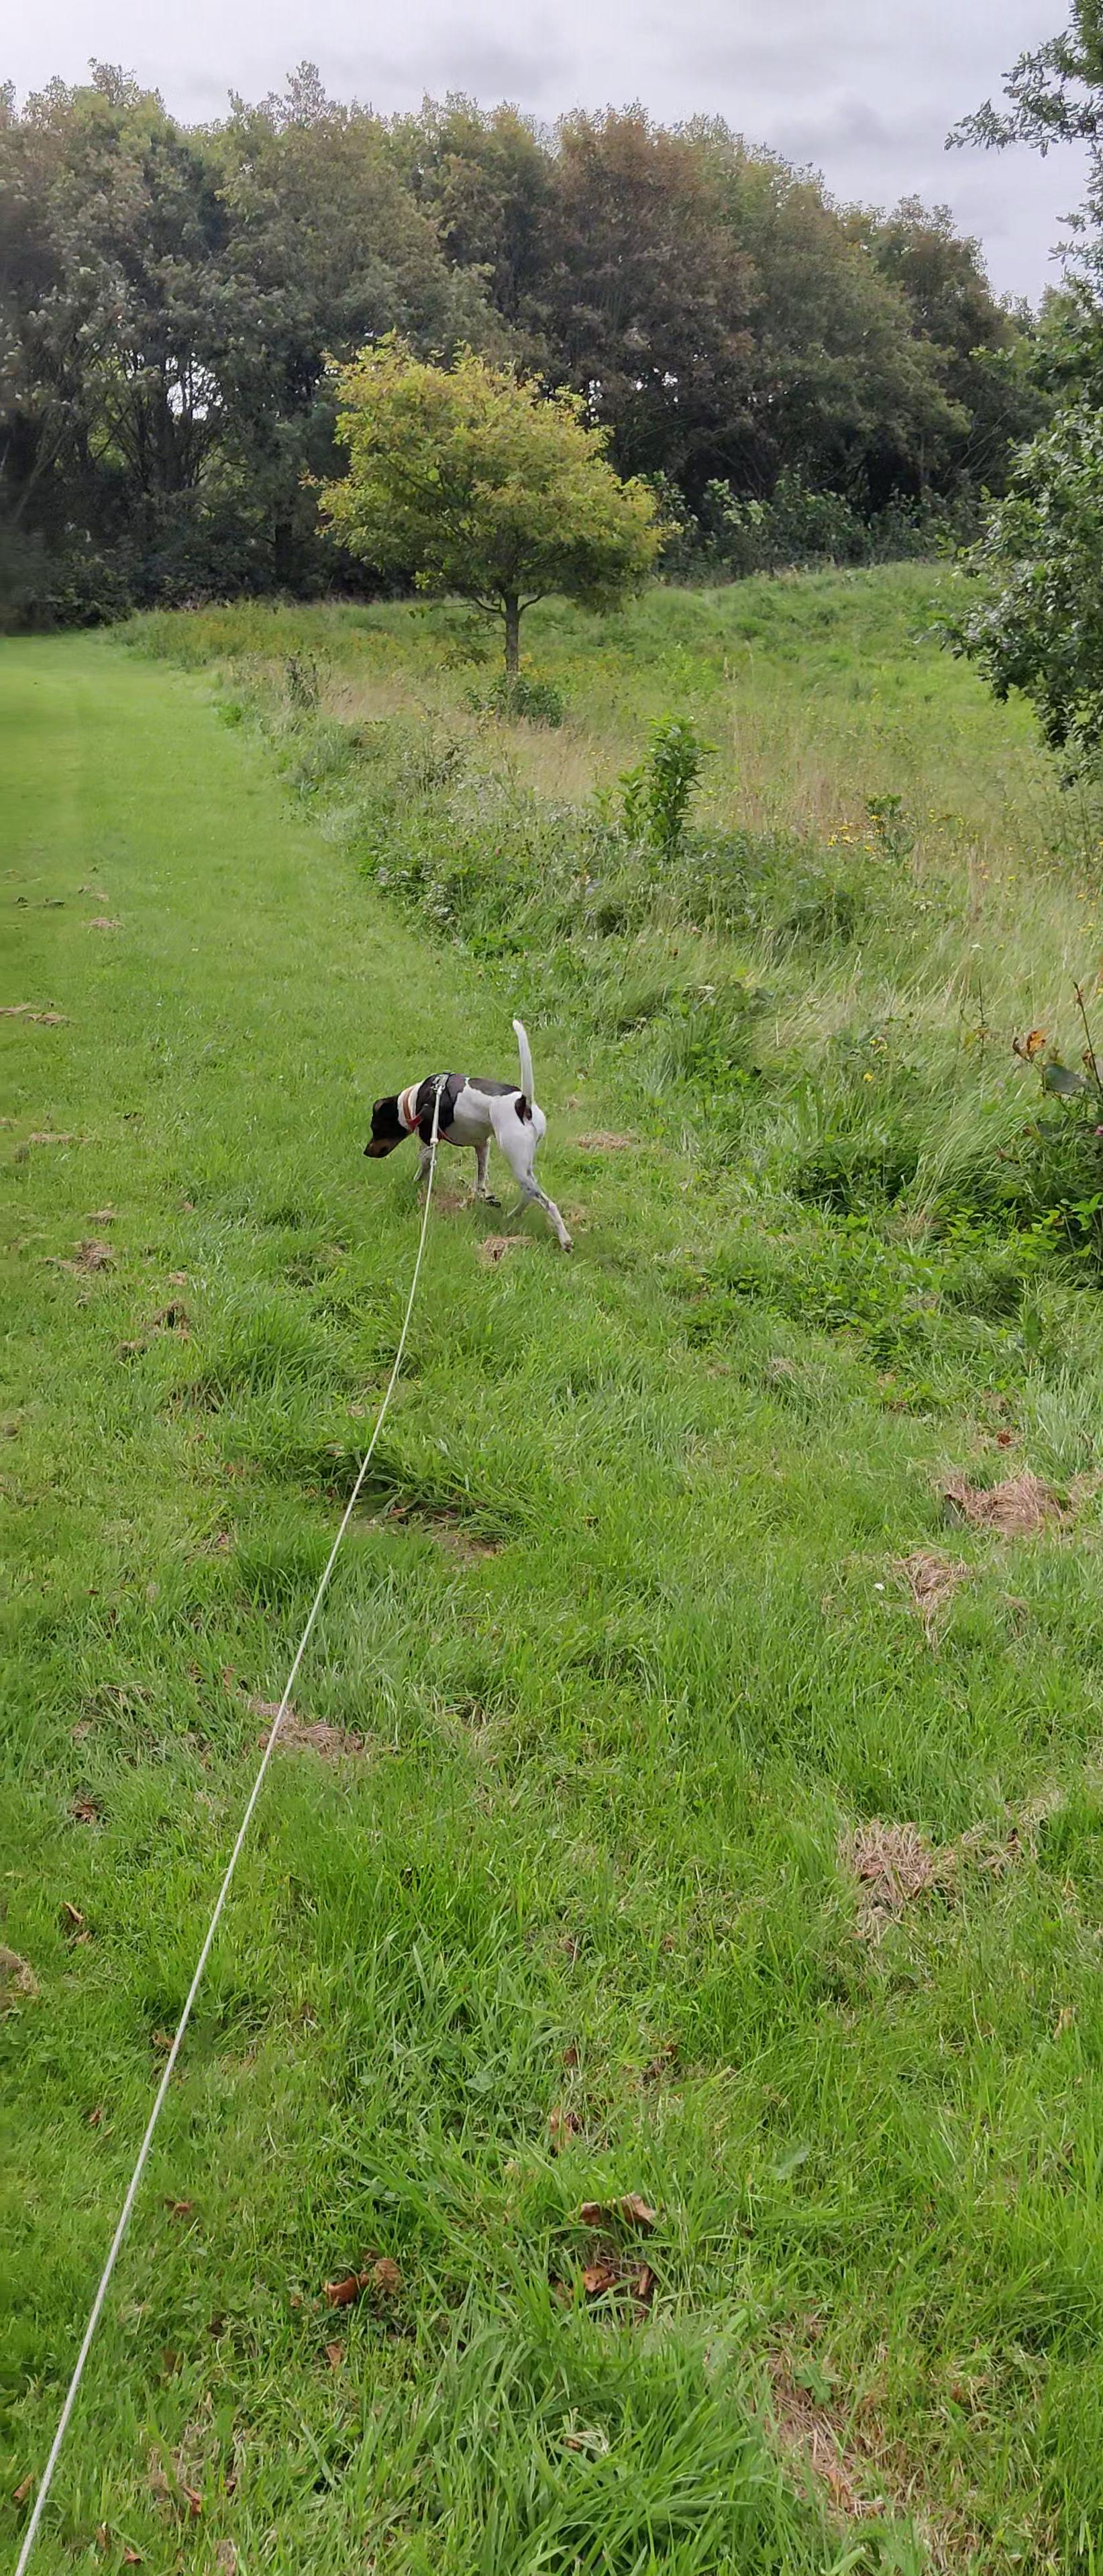Dog: (355, 1002, 579, 1253)
